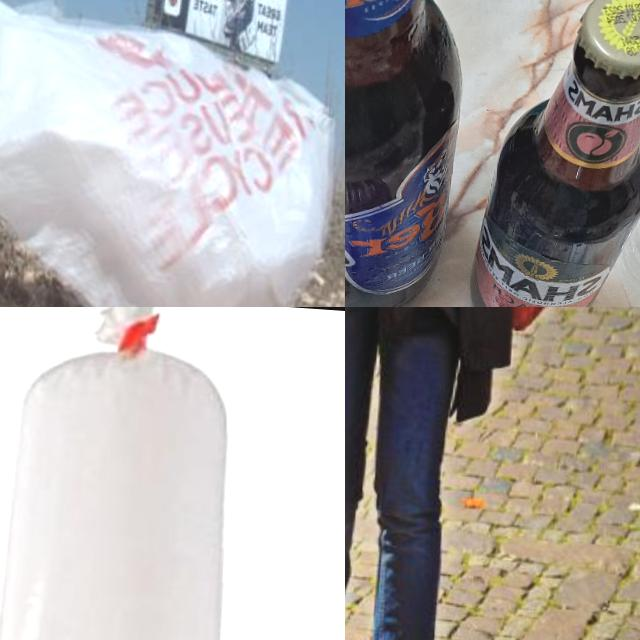garrafa de vidro: (462, 0, 640, 307), (345, 0, 470, 307)
garrafa plástica: (610, 0, 640, 307)
sacola plástica: (0, 0, 345, 307), (0, 307, 268, 640)
